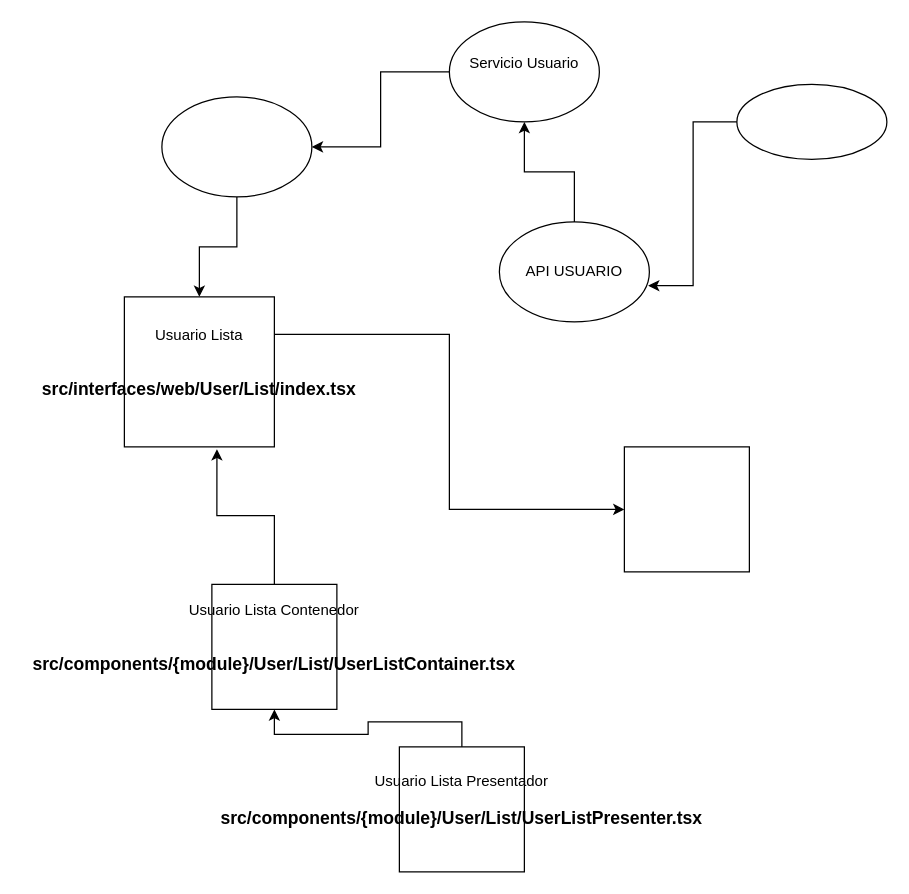
The diagram is 909 pixels wide and 894 high, and some of its shapes have lost their labels. The centre of each missing label's shape, as x and y in pixels:
"api: Instacia de axios" goes at pixel 811 121.
"Caso de Uso src/domain/useCase/{module}/User/UserUsecase.ts" goes at pixel 236 146.
"Menú src/utils/menu.tsx" goes at pixel 686 509.
